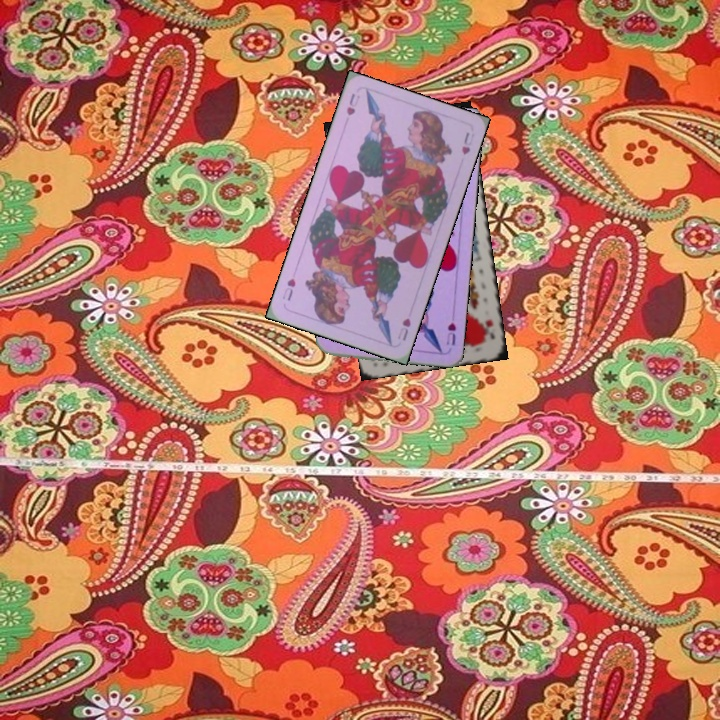HK: (478, 316, 497, 345)
HU: (342, 89, 363, 118), (394, 314, 413, 343), (442, 318, 458, 348)
